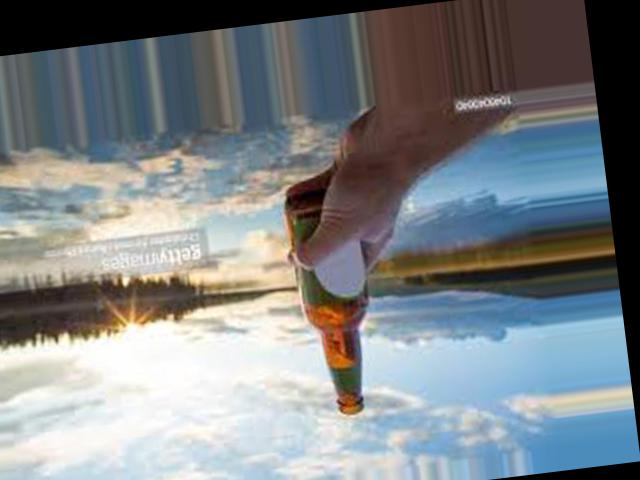beer: (281, 188, 384, 419)
